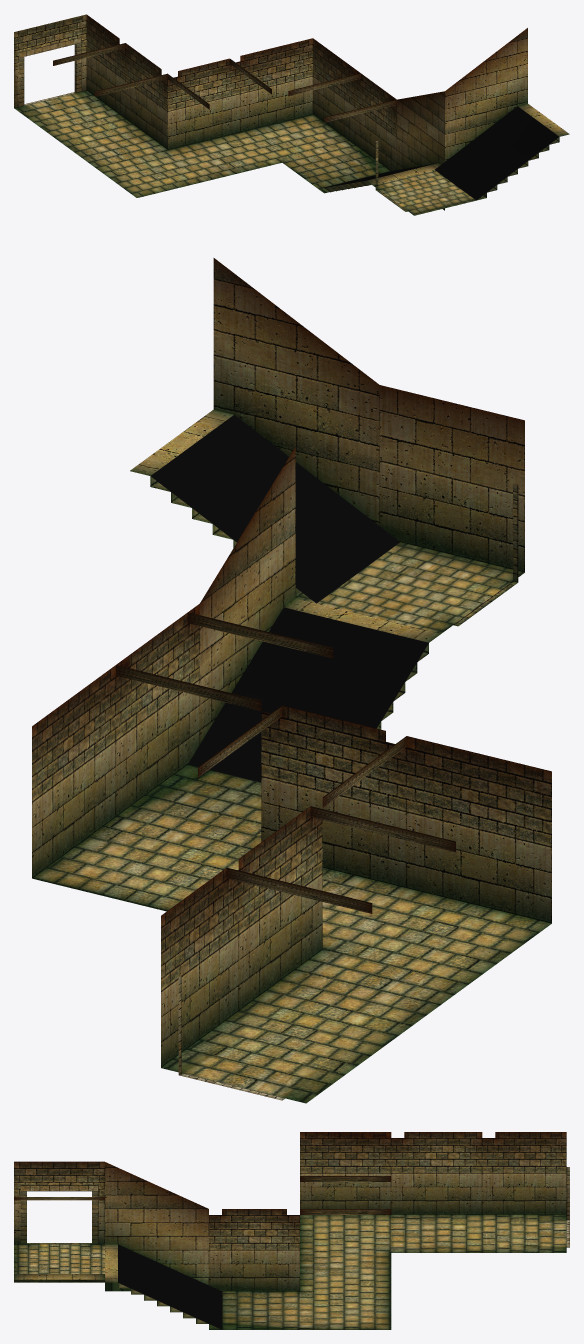
The model's file is MISSION12_INTERIORROOMS01.glb.
The picture shows the model from 3 angles, top to bottom: view 1: azimuth 30°, elevation 25°; view 2: azimuth 150°, elevation 25°; view 3: azimuth 270°, elevation 25°; orthographic projection. The views are drawn at different scales.
Visible parts, largest first — view 1: MISSION12_INTERIORROOMS01; view 2: MISSION12_INTERIORROOMS01; view 3: MISSION12_INTERIORROOMS01.
Boxes of the visible parts, x1,y1,x2,y2 form: MISSION12_INTERIORROOMS01: [14, 14, 569, 215]; MISSION12_INTERIORROOMS01: [32, 258, 551, 1103]; MISSION12_INTERIORROOMS01: [14, 1132, 569, 1329].
Bounding box in the file's own units: 14.5 × 7.5 × 21.38.
Materials: 9 (8 with a texture image).
